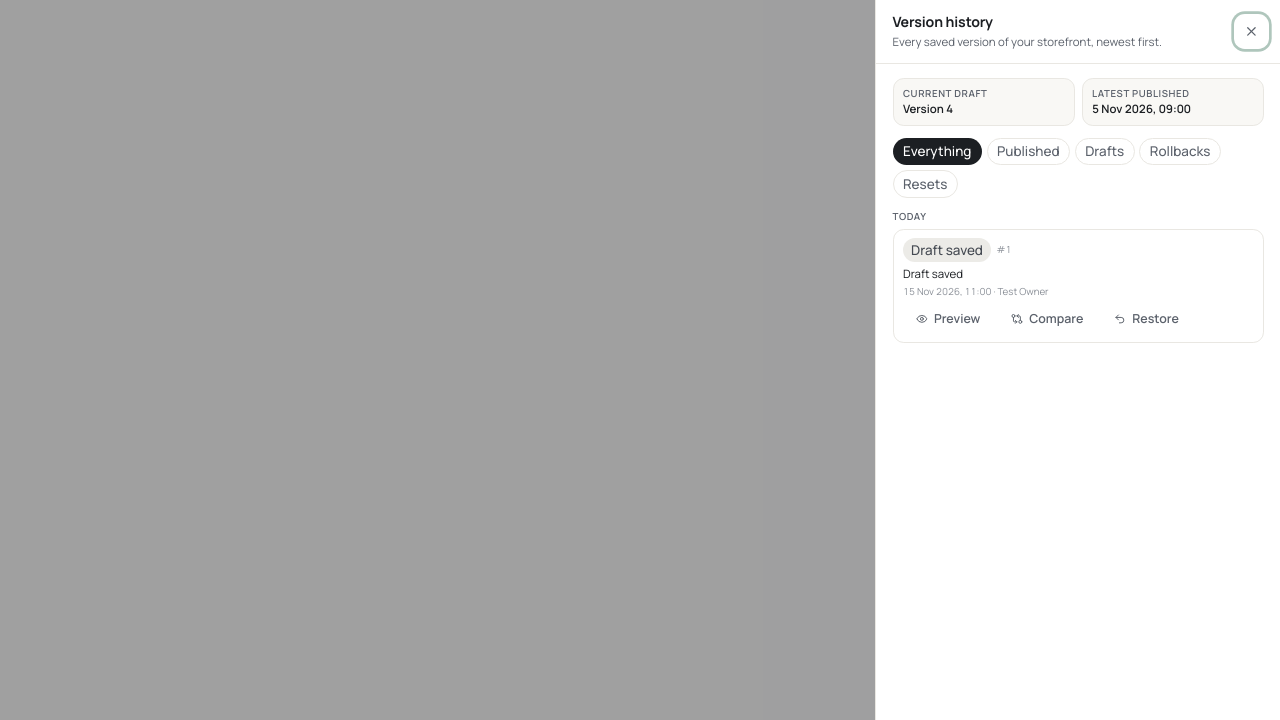
it: RevisionHistoryPanel › warns about unsaved editor changes before replacing the draft
Click the button "Restore" at (1147, 318), box [1101,303,1192,334]
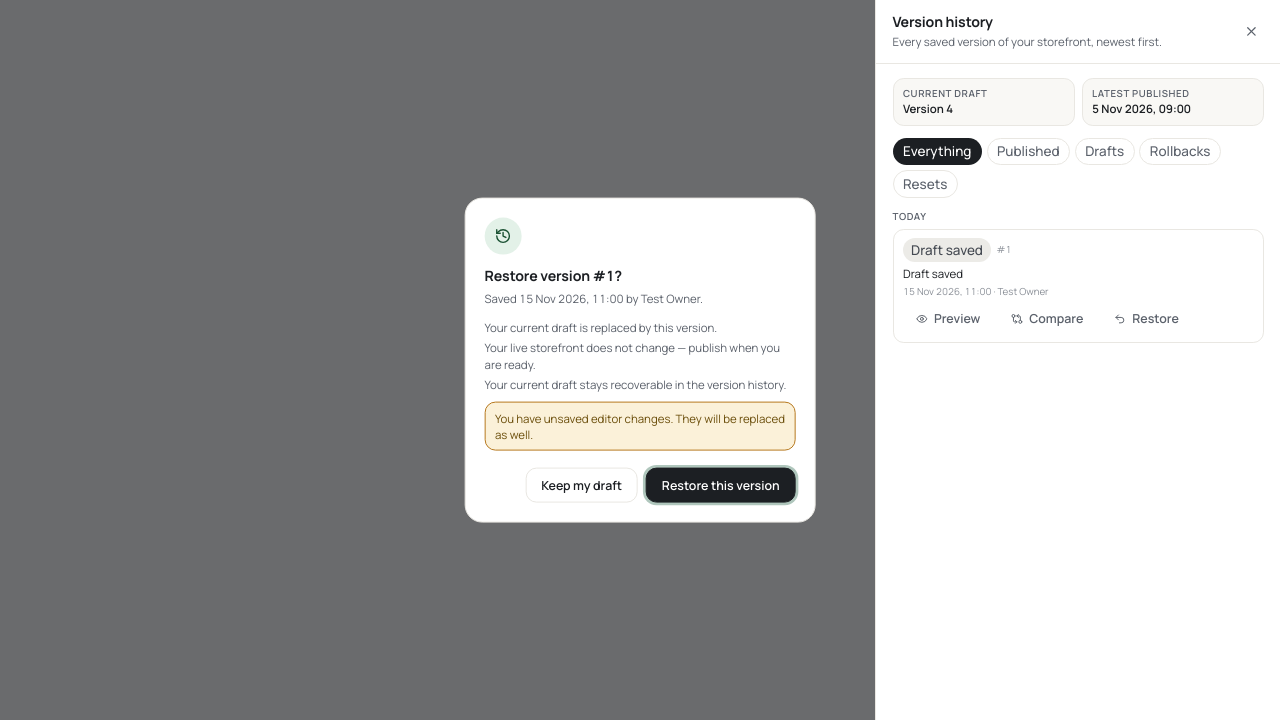
Expected: the dialog "Restore version #1?" shows "You have unsaved editor changes", [495,410,785,441]
